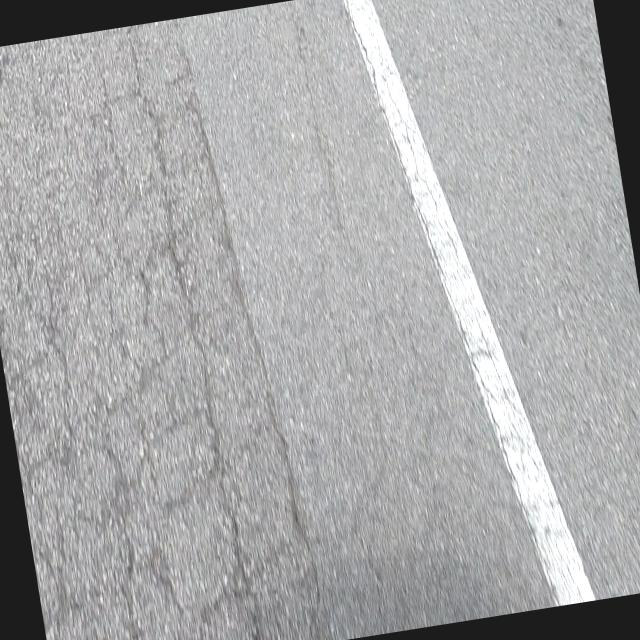Retak-Buaya: (0, 20, 322, 640)
